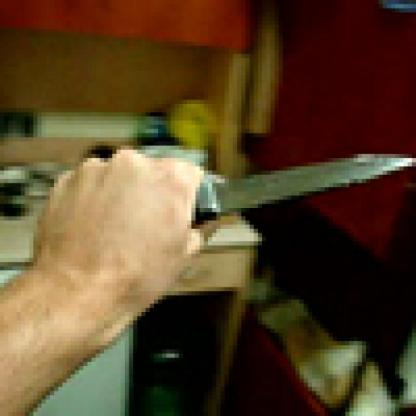Knife: (175, 149, 412, 229)
